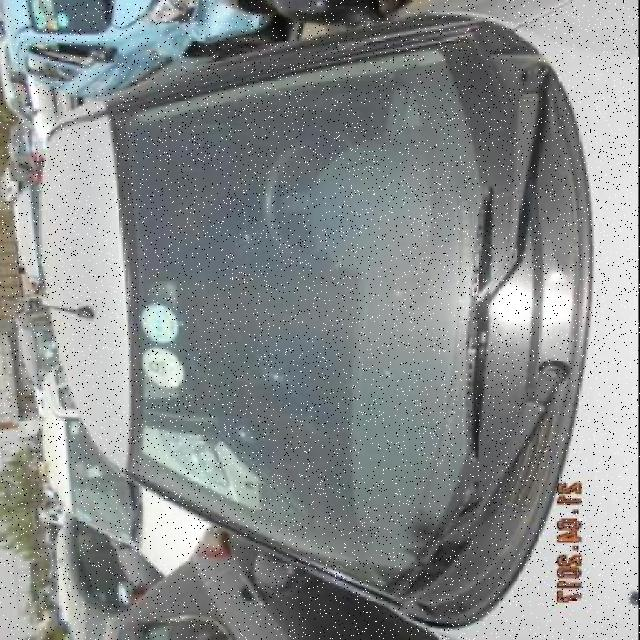damage: (251, 357, 309, 389), (230, 421, 265, 449), (238, 223, 262, 247)
